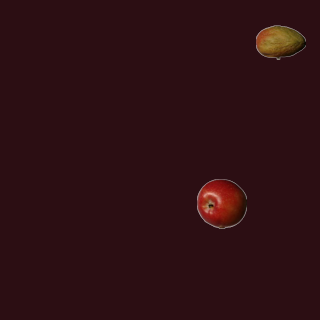Apple Braeburn: (196, 178, 246, 228)
Papaya: (255, 17, 305, 67)
